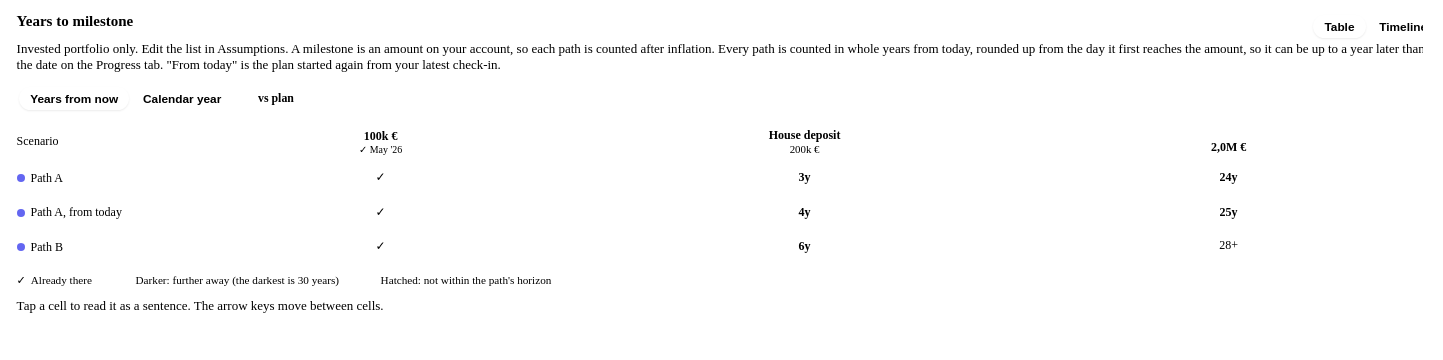
vs plan › sets the plan from today against the plan as well, on the same footing, and gives the plan itself nothing
Step 1. Click the button "vs plan" → coordinates (276, 99), box x1=247 y1=87 x2=305 y2=110
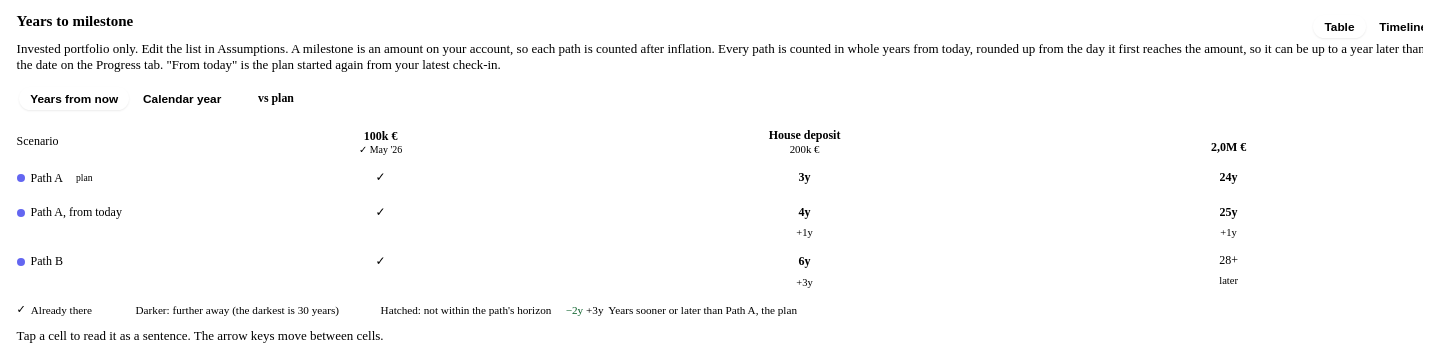
Check: the text "+3y" is shown, box x1=796 y1=277 x2=813 y2=288
